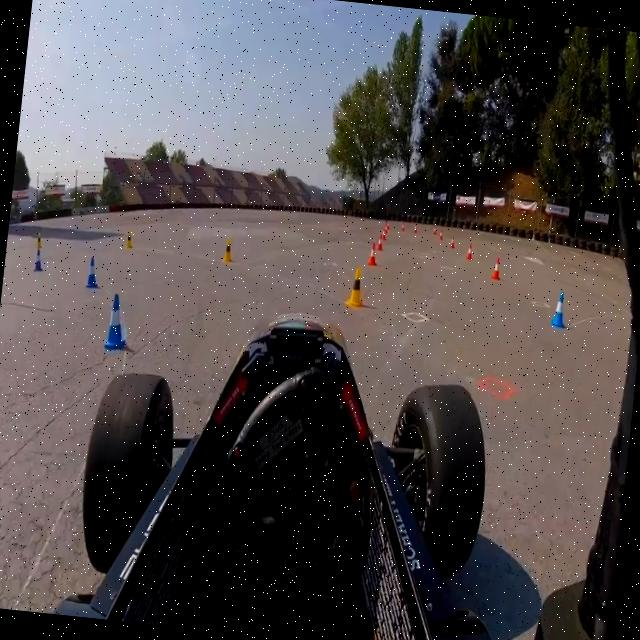blue_cone: (102, 288, 132, 352), (548, 290, 570, 330), (84, 254, 101, 290), (32, 245, 46, 274)
orange_cone: (366, 240, 378, 266), (490, 256, 502, 280), (464, 240, 474, 260), (375, 232, 384, 252), (448, 234, 456, 249), (379, 226, 387, 240), (438, 229, 443, 240)
yellow_cone: (344, 266, 367, 310), (222, 237, 234, 264), (124, 230, 134, 250), (34, 230, 44, 250)
